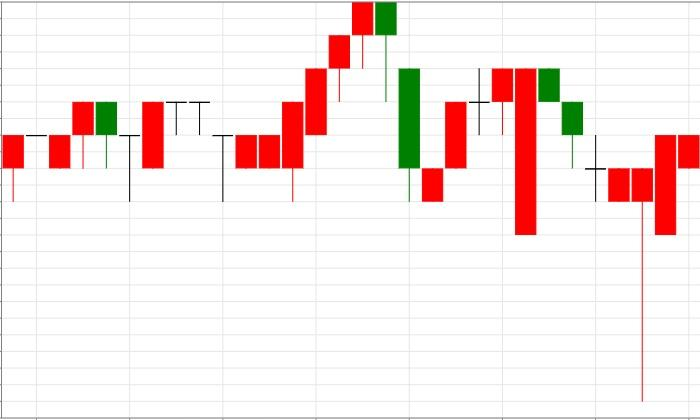hanging_man_fall: (211, 1, 397, 201)
